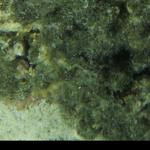dead: (1, 1, 145, 139)
